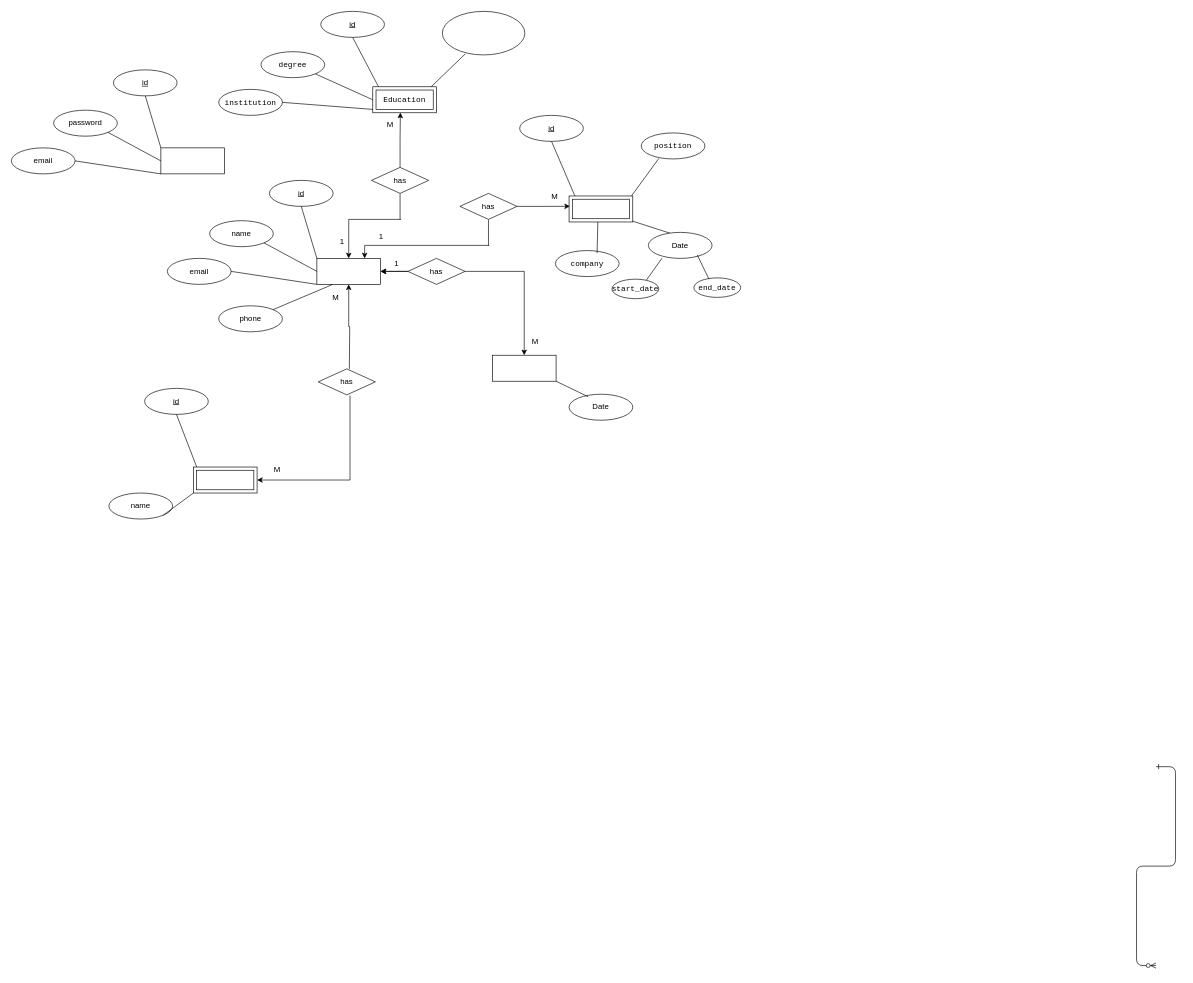
The diagram is 1193 pixels wide and 983 high, and some of its shapes have lost their labels. The centre of each missing label's shape, as x and y in pixels:
"Application" belongs at point 524,368.
"Candidate" belongs at point 348,271.
"Experience" belongs at point 600,208.
"graduation_year" belongs at point 483,33.
"Skill" belongs at point 225,479.
"User" belongs at point 192,160.
